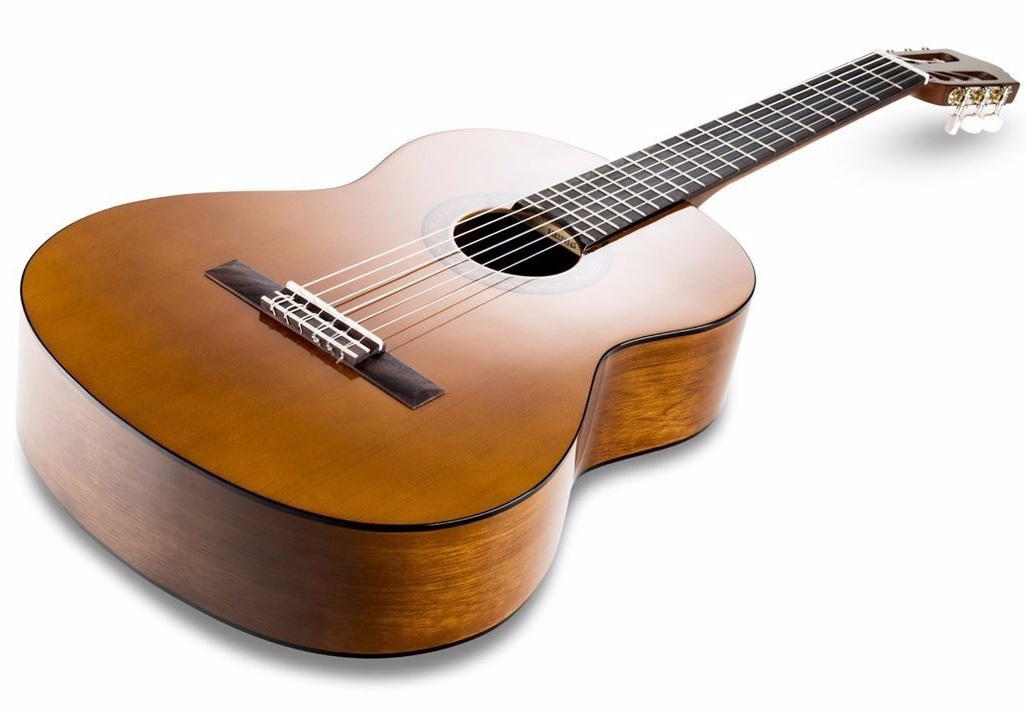0 classic: (14, 45, 1015, 657)
